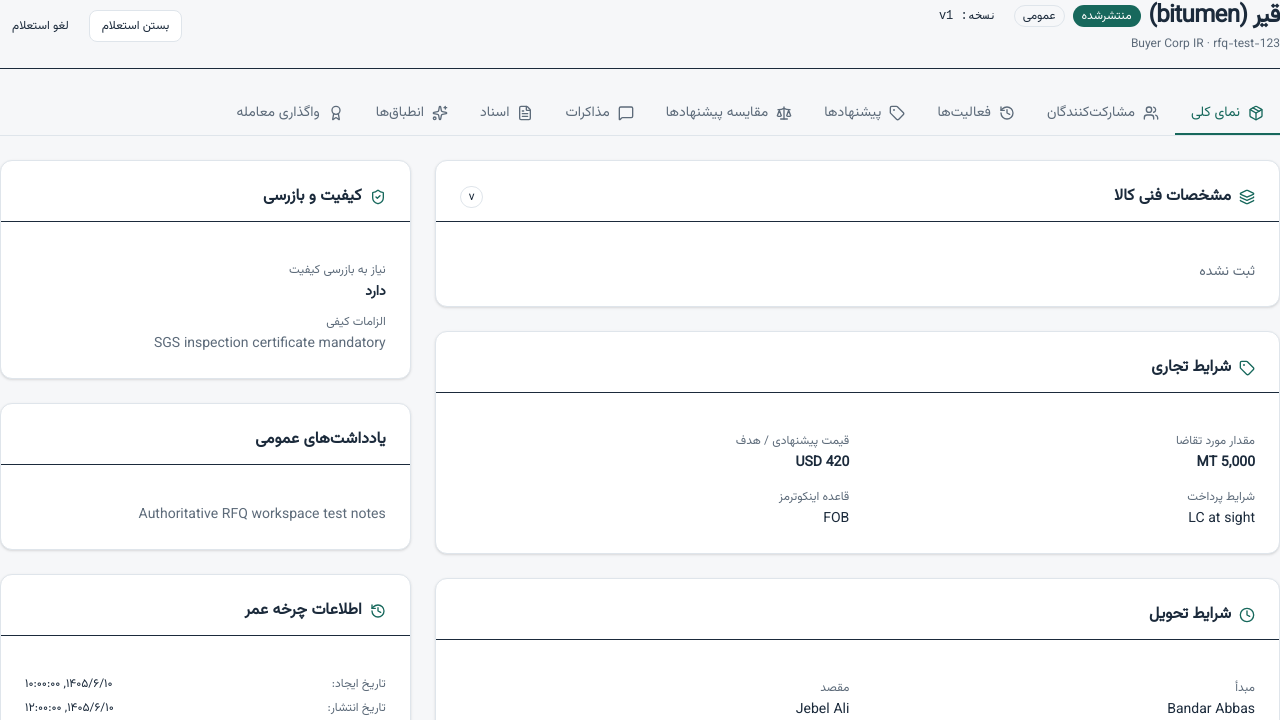
Test: T0507 - RFQ Workspace Component Suite › 5. renders explicit non-functional placeholders for staged tabs (Offers, Negotiation, Documents)
The image size is (1280, 720).
# Offers tab placeholder
Click the button "پیشنهادها" at x=865, y=114, box [808,93,921,135]
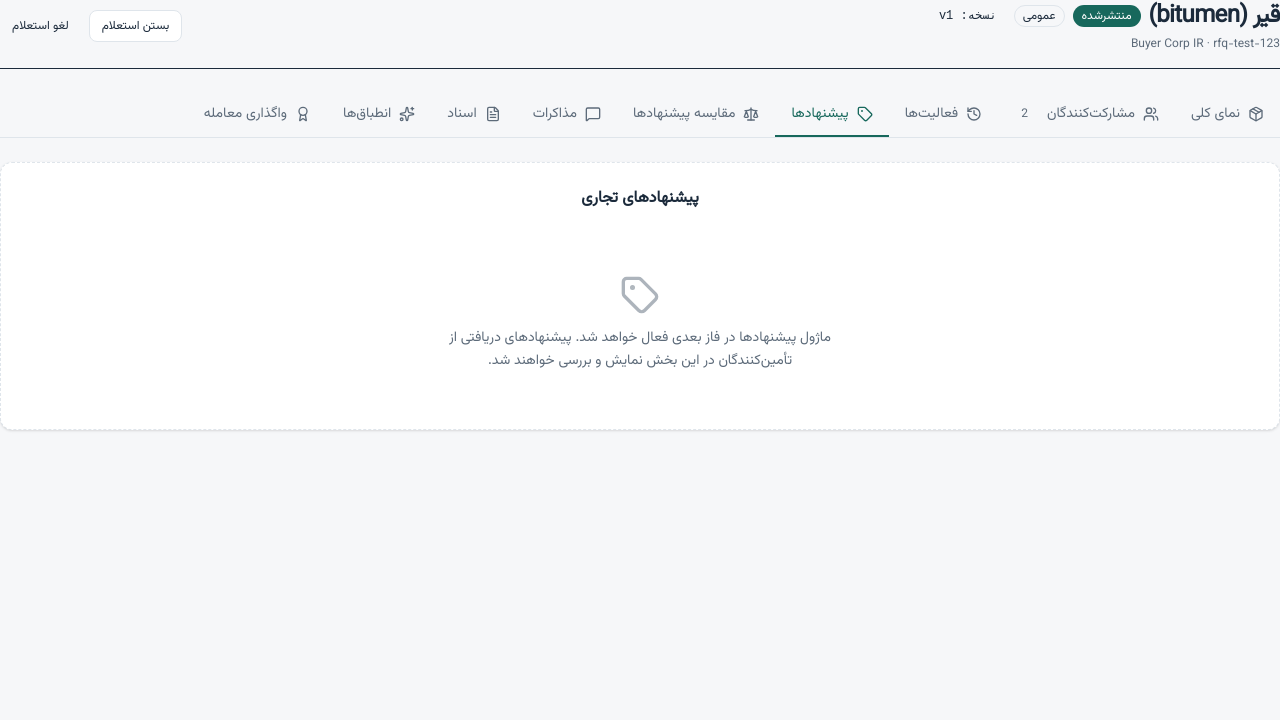
Result: the heading "پیشنهادهای تجاری" is shown at [581,186,699,211]
# Negotiation tab (now active RFQNegotiationTab under T0812)
Click the button "مذاکرات" at x=567, y=115, box [517,93,617,137]
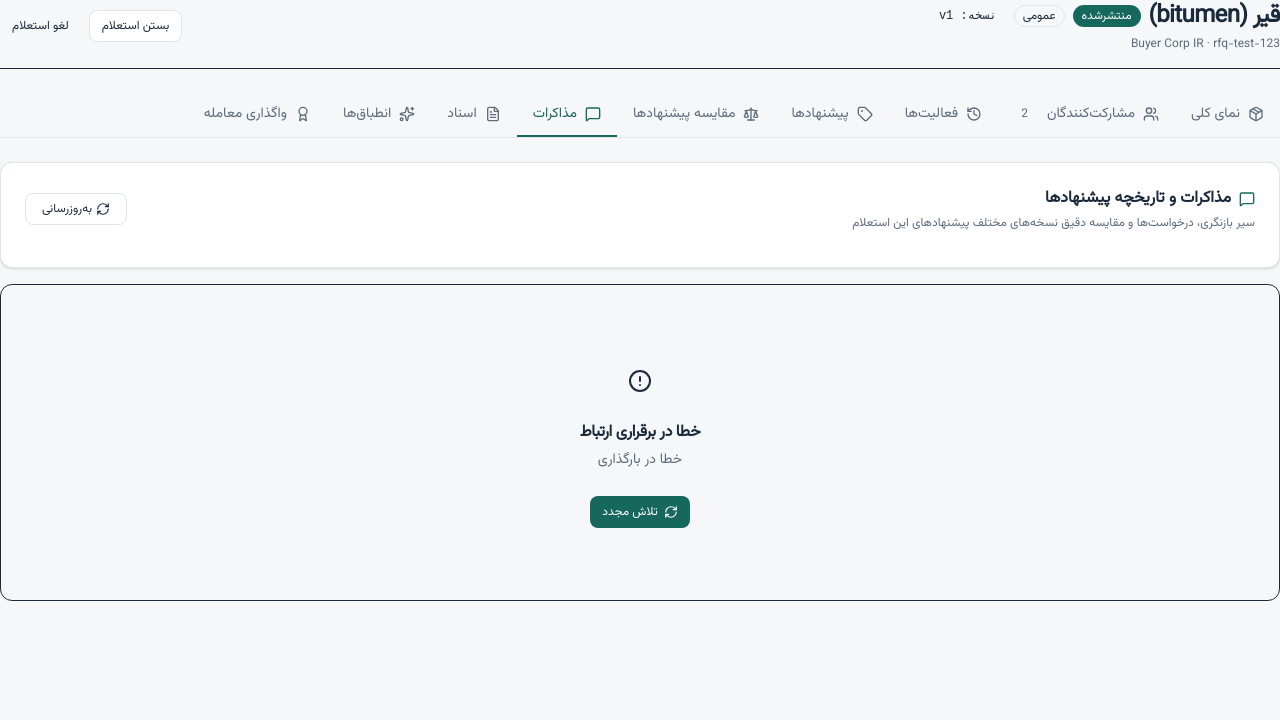
Result: the heading "مذاکرات و تاریخچه پیشنهادها" is shown at [1045,186,1255,211]
# Documents tab placeholder (not reusing KYC)
Click the button "اسناد" at x=474, y=115, box [431,93,517,137]
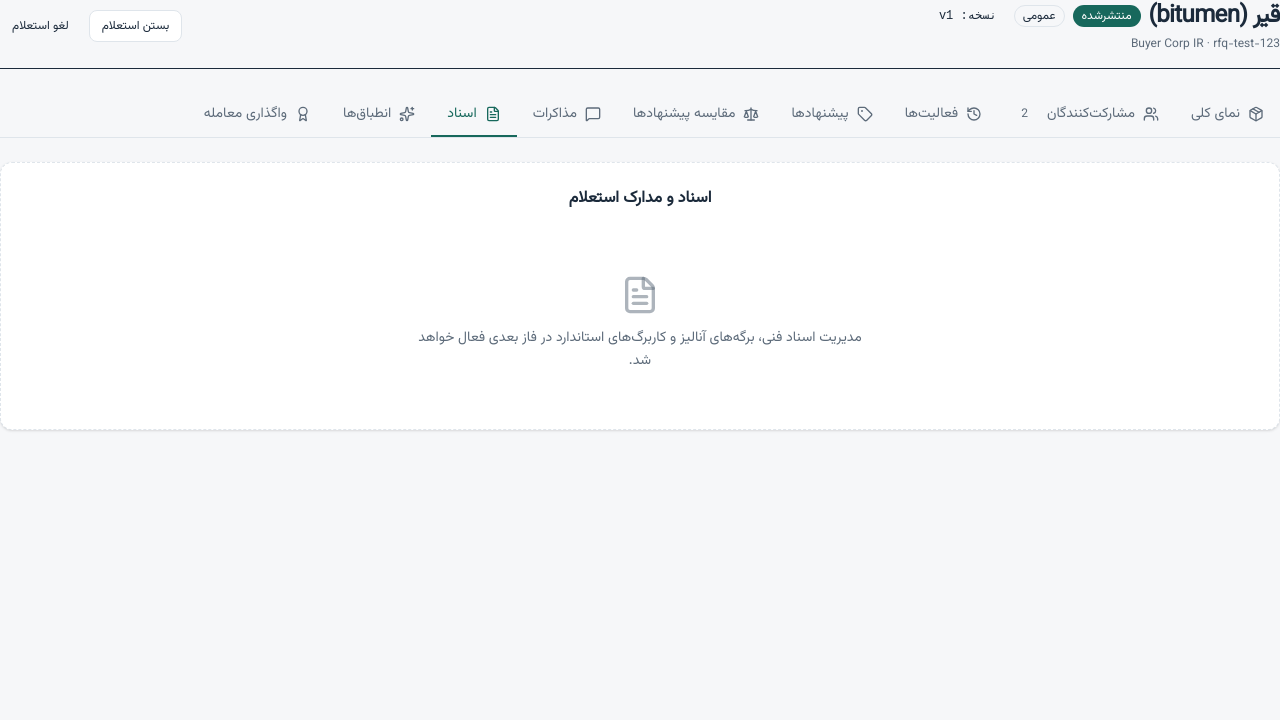
Result: the heading "اسناد و مدارک استعلام" is shown at [569,186,711,211]
